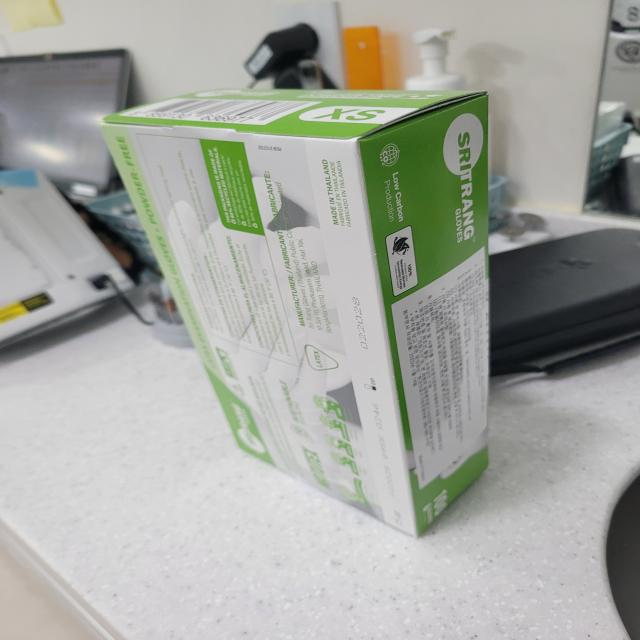glove: (66, 58, 584, 554)
